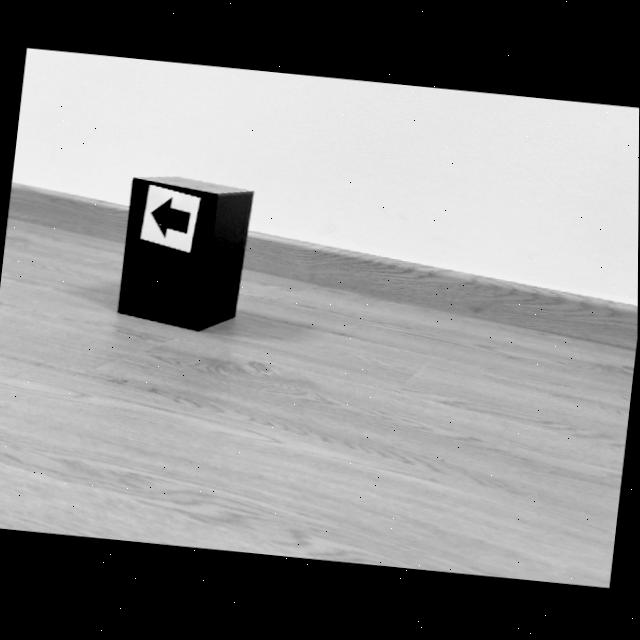LEFT: (152, 198, 190, 238)
